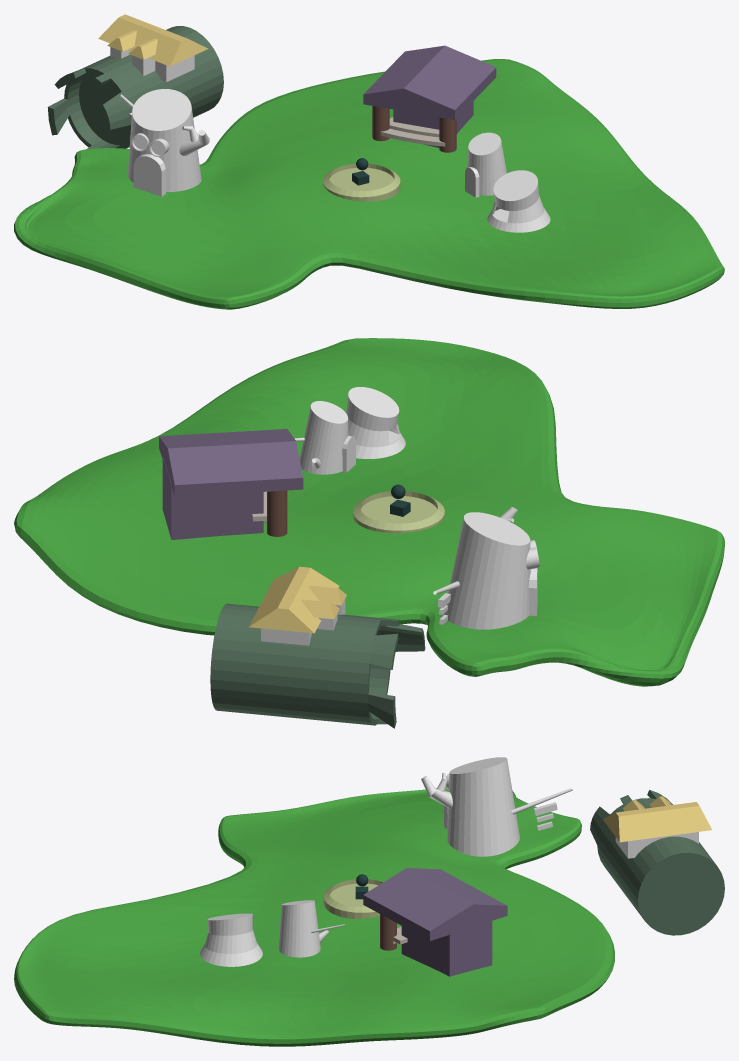
File: wartwood.glb
3 renders of one model, top to bottom at view 1: azimuth 30°, elevation 25°; view 2: azimuth 150°, elevation 25°; view 3: azimuth 270°, elevation 25°, orthographic. The views are drawn at different scales.
Visible parts, largest first — view 1: Plane -col, Cylinder.003, Cube.005, Cylinder.006, Cylinder.002, Cylinder.012, Cylinder.001, Cylinder.004, Cylinder.007, Cylinder.011, Cube.010, Cube.006 (+2 smaller); view 2: Plane -col, Cylinder.003, Cube.005, Cylinder.006, Cube.010, Cylinder.004, Cylinder.012, Cylinder.002, Cylinder.001, Cylinder.011, Cube.007; view 3: Plane -col, Cylinder.003, Cube.005, Cylinder.006, Cube.010, Cylinder.012, Cylinder.002, Cylinder.004, Cylinder.001, Cylinder.011, Cube.006.
Boxes of the visible parts, x1,y1,x2,y2 form: Plane -col: (14, 59, 724, 309); Cylinder.003: (47, 26, 223, 149); Cube.005: (363, 45, 496, 119); Cylinder.006: (127, 89, 201, 192); Cylinder.002: (487, 170, 550, 232); Cylinder.012: (98, 14, 208, 66); Cylinder.001: (323, 163, 400, 201); Cylinder.004: (465, 132, 506, 197); Cylinder.007: (133, 154, 165, 196); Cylinder.011: (110, 47, 194, 82); Cube.010: (393, 101, 473, 147); Cube.006: (439, 117, 456, 152); Plane -col: (14, 338, 724, 686); Cylinder.003: (210, 603, 425, 728); Cube.005: (159, 429, 303, 496); Cylinder.006: (444, 512, 530, 629); Cube.010: (162, 457, 263, 539); Cylinder.004: (294, 401, 355, 474); Cylinder.012: (249, 566, 339, 633); Cylinder.002: (346, 387, 405, 458); Cylinder.001: (353, 491, 444, 533); Cylinder.011: (261, 599, 345, 645); Cube.007: (267, 490, 287, 536); Plane -col: (14, 788, 614, 1046); Cylinder.003: (590, 790, 724, 935); Cube.005: (363, 868, 507, 940); Cylinder.006: (446, 757, 519, 856); Cube.010: (401, 918, 492, 976); Cylinder.012: (603, 802, 711, 842); Cylinder.002: (200, 913, 262, 966); Cylinder.004: (278, 900, 345, 957); Cylinder.001: (323, 879, 382, 918); Cylinder.011: (615, 832, 698, 858); Cube.006: (380, 914, 396, 950).
Size of what is drawn, in the model's own units: 72.36 by 14.83 by 82.59.
